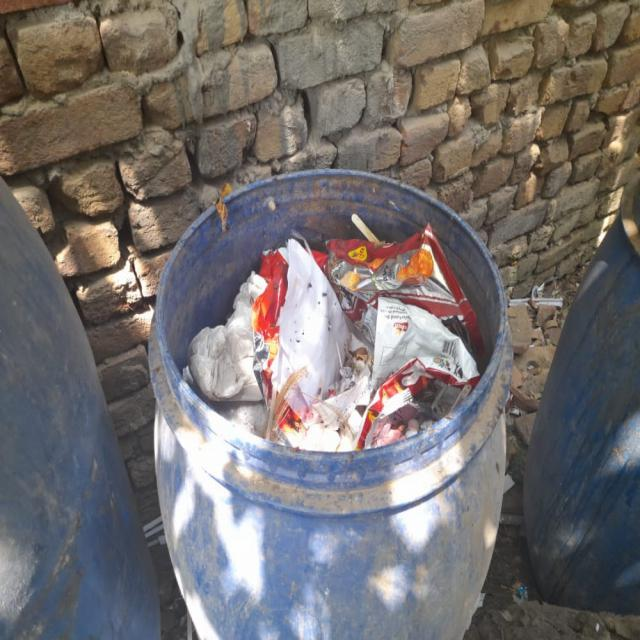garbage: (178, 213, 502, 480)
